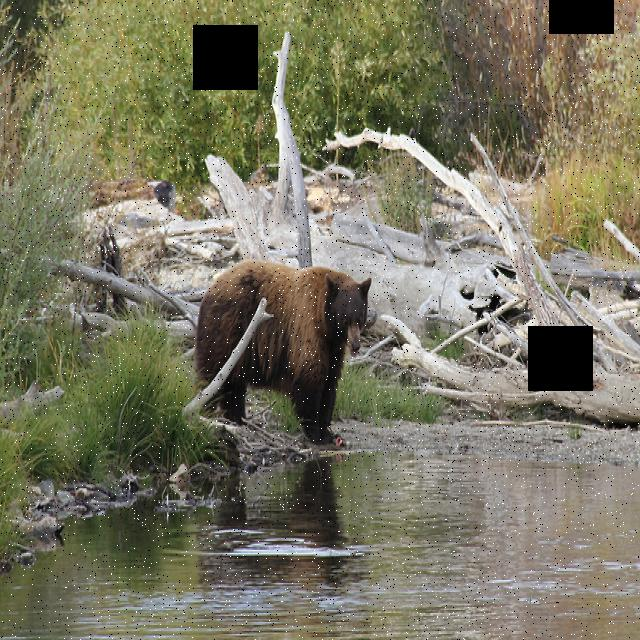Bear: (188, 249, 379, 456)
